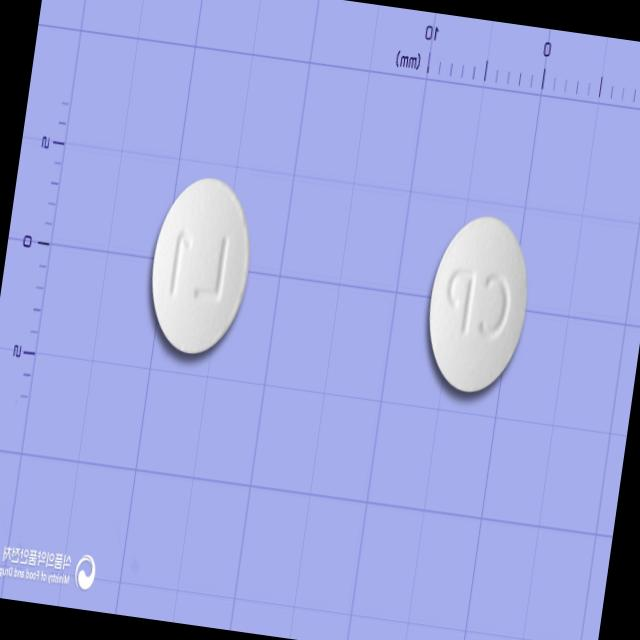Claricin - 500mg: (416, 208, 538, 402), (139, 168, 261, 362)
